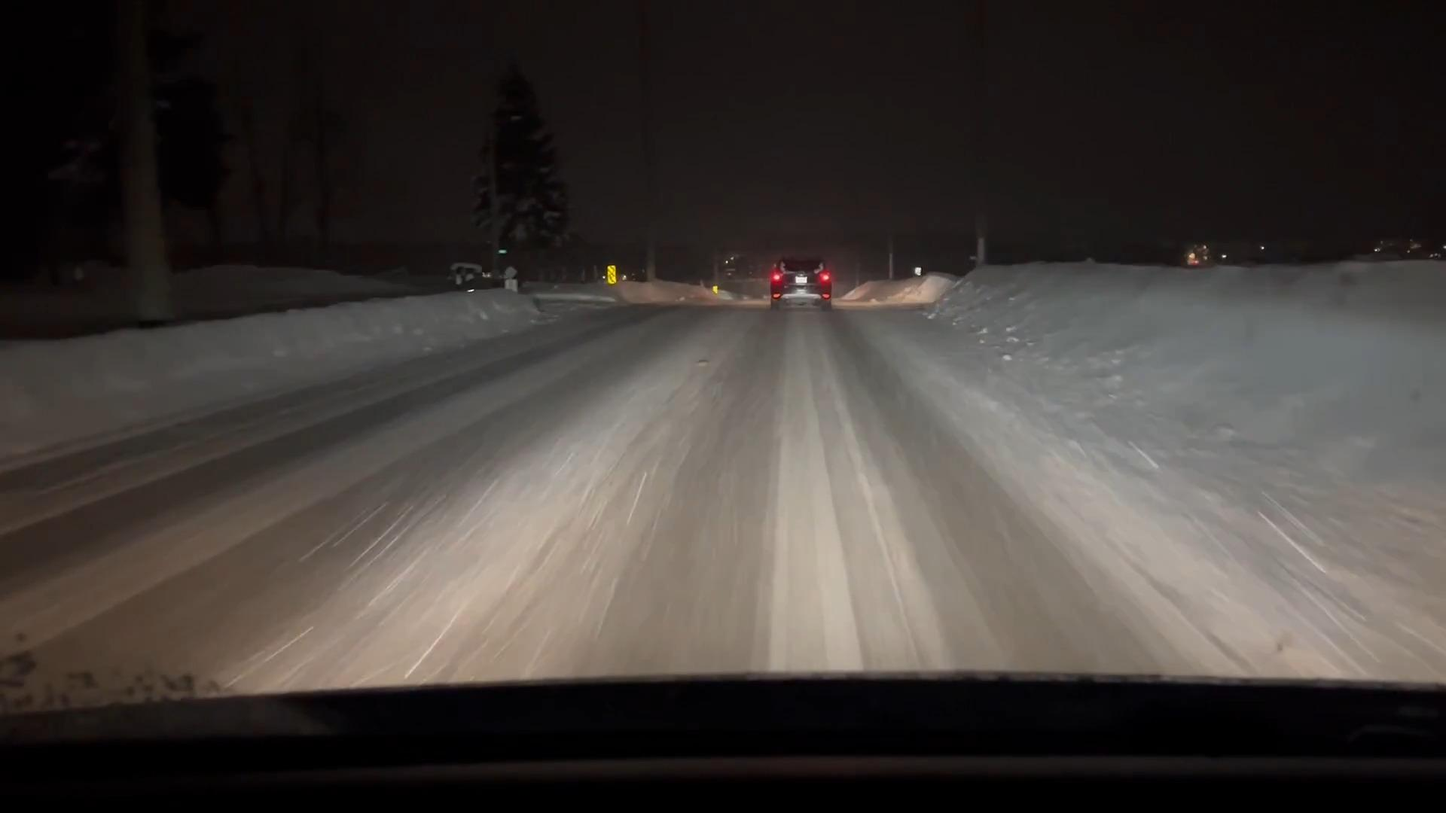Snow: (0, 289, 1445, 699), (856, 259, 1445, 679), (0, 264, 535, 466)
